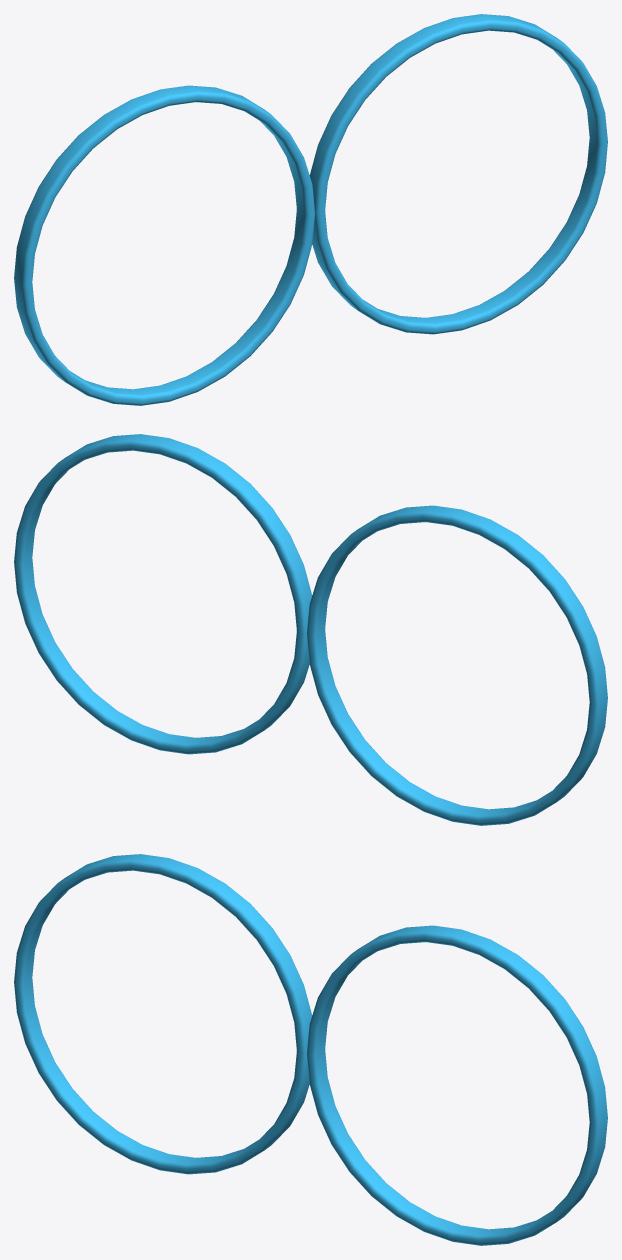
File: Holes.fbx
3 renders of one model, top to bottom at view 1: azimuth 30°, elevation 25°; view 2: azimuth 150°, elevation 25°; view 3: azimuth 330°, elevation 25°, orthographic.
Visible parts, largest first — view 1: Cylinder, Cylinder.001; view 2: Cylinder, Cylinder.001; view 3: Cylinder.001, Cylinder.
Boxes of the visible parts, x1=… form: Cylinder: x1=14, y1=85, x2=315, y2=405; Cylinder.001: x1=309, y1=14, x2=607, y2=334; Cylinder: x1=306, y1=505, x2=607, y2=825; Cylinder.001: x1=14, y1=434, x2=312, y2=754; Cylinder.001: x1=306, y1=925, x2=607, y2=1245; Cylinder: x1=14, y1=854, x2=312, y2=1174.
Size of the model in its own units: 303 by 151 by 10.45.
1 material, 1 textured.
